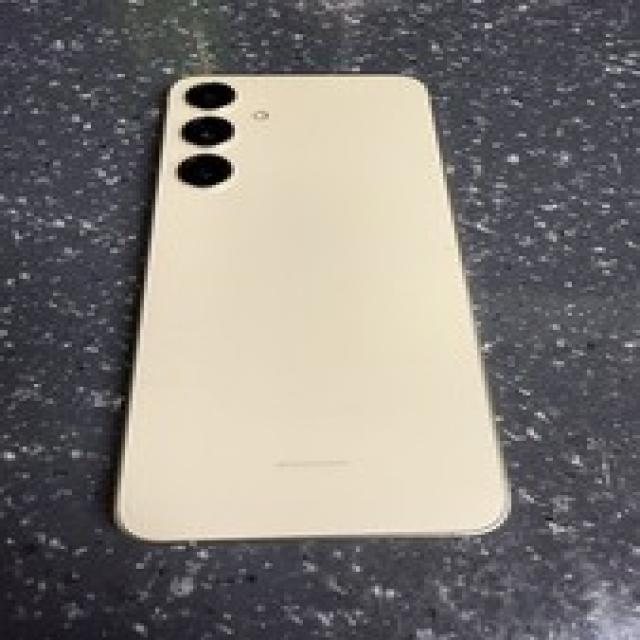mobile_phone: (99, 55, 534, 576)
